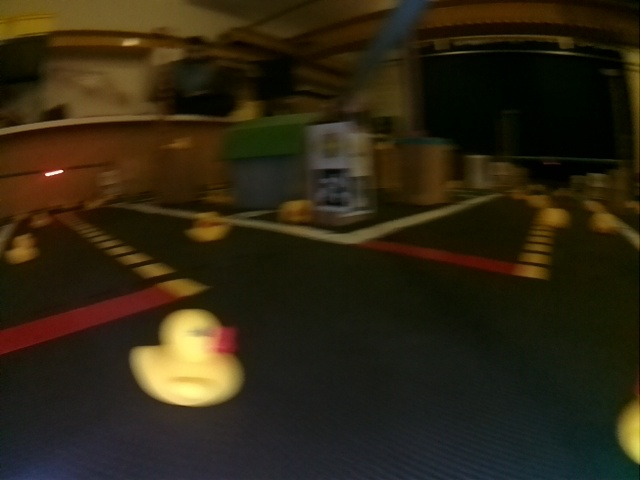Duckie: (132, 310, 245, 407), (188, 213, 229, 240), (7, 235, 38, 263), (279, 201, 310, 222), (591, 212, 618, 233), (544, 208, 569, 228), (31, 213, 50, 227)
QR code: (312, 171, 348, 210), (345, 174, 374, 215)
Signal sign: (311, 124, 345, 165)
